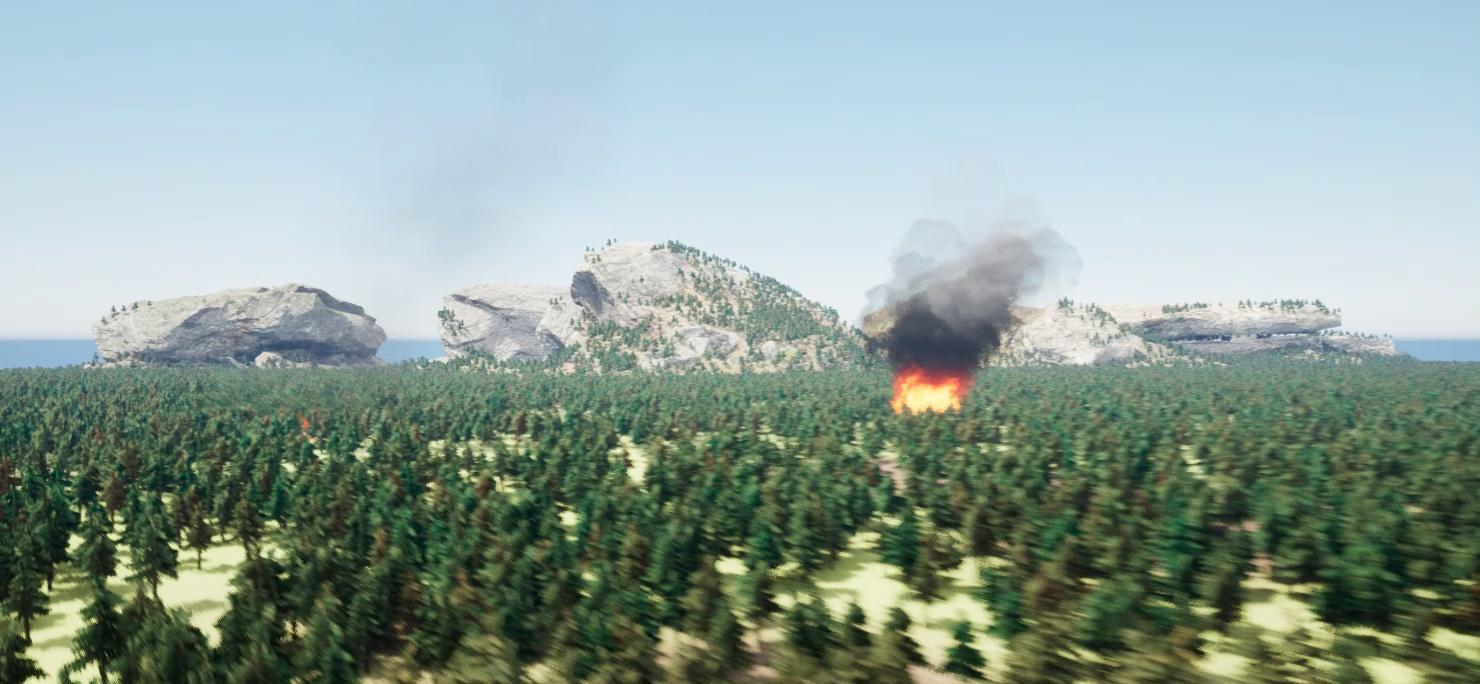fire: (889, 369, 959, 410)
smoke: (864, 197, 1079, 369)
